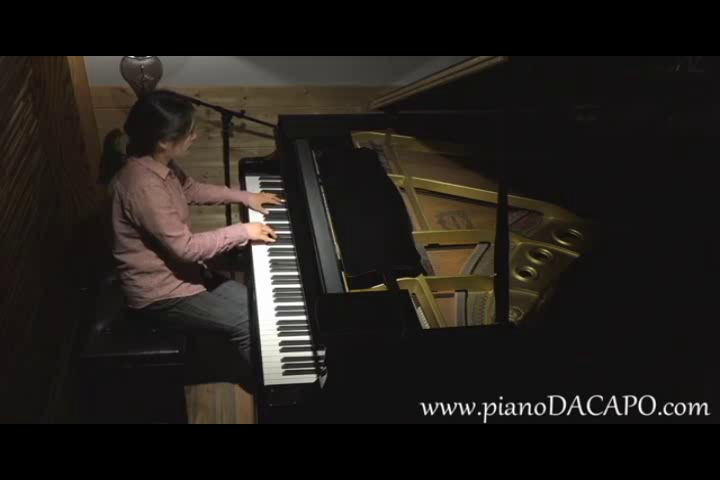keyboard: (239, 161, 323, 391)
